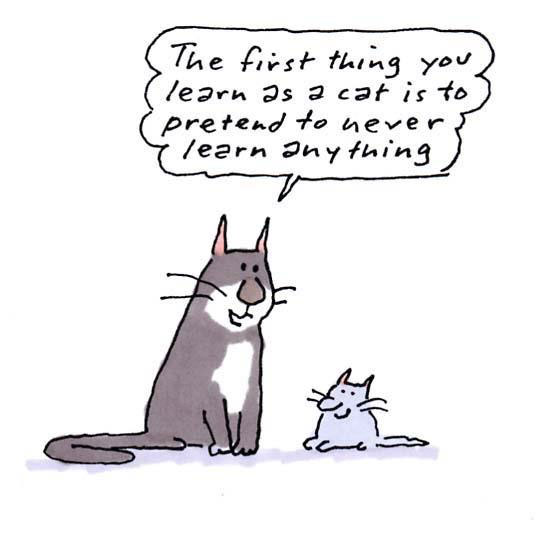cat: (173, 218, 280, 481), (315, 360, 407, 467)
